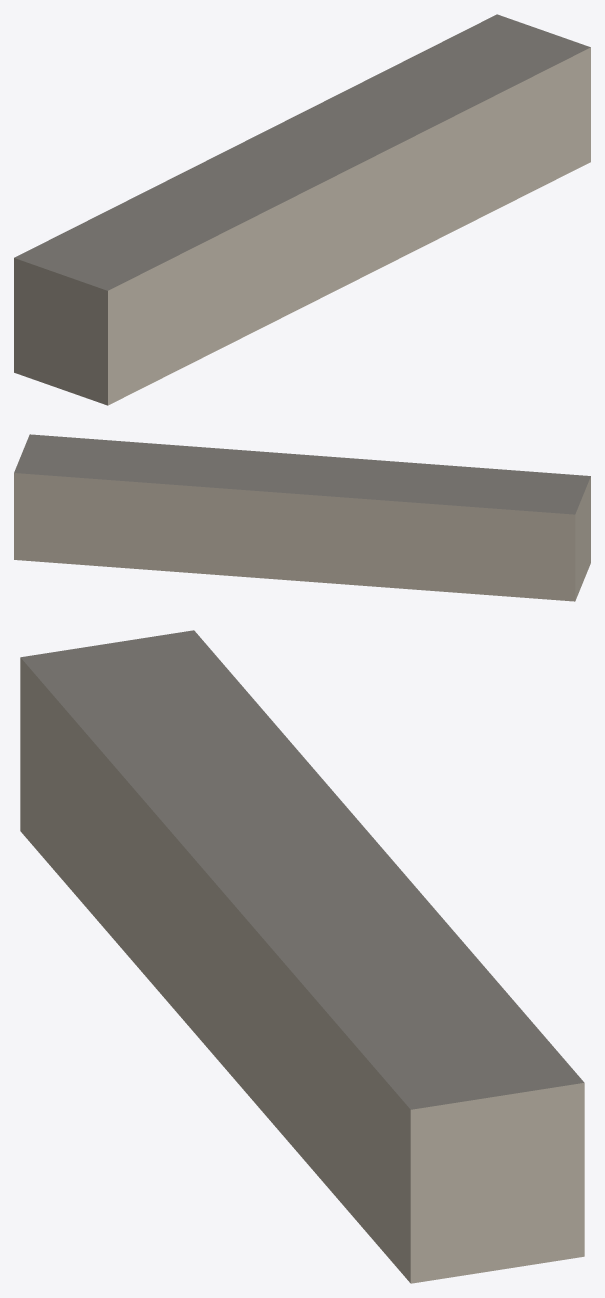
3 views of the same model, one above another, from view 1: azimuth 30°, elevation 25°; view 2: azimuth 150°, elevation 25°; view 3: azimuth 270°, elevation 25° (orthographic). The views are drawn at different scales.
Visible parts, largest first — view 1: HP-w859488640; view 2: HP-w859488640; view 3: HP-w859488640.
Part boxes in pixels (x1,y1,x2,y2): HP-w859488640: [14, 14, 590, 405]; HP-w859488640: [14, 434, 590, 601]; HP-w859488640: [20, 630, 584, 1283].
Size of the model in its own units: 106 by 18 by 52.92.
